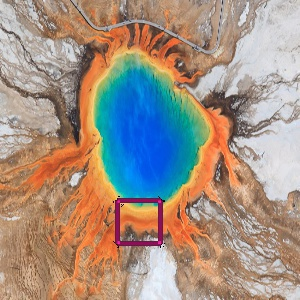square: (114, 196, 165, 248)
